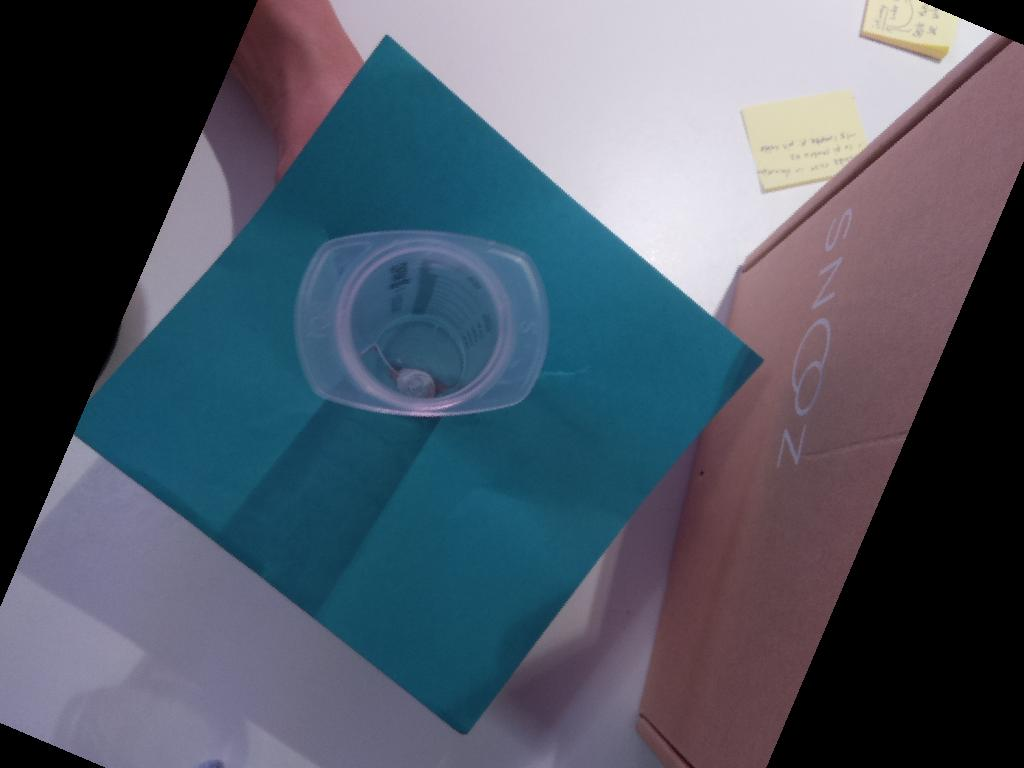clean: (294, 229, 550, 419)
